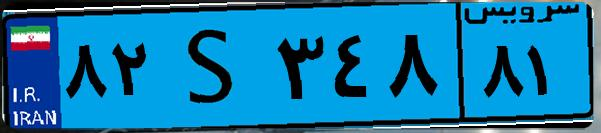1: (525, 38, 570, 115)
2: (110, 28, 158, 98)
3: (270, 28, 330, 110)
4: (330, 28, 385, 110)
8: (385, 28, 445, 110), (57, 26, 110, 100), (475, 38, 525, 113)
S: (158, 12, 270, 120)
